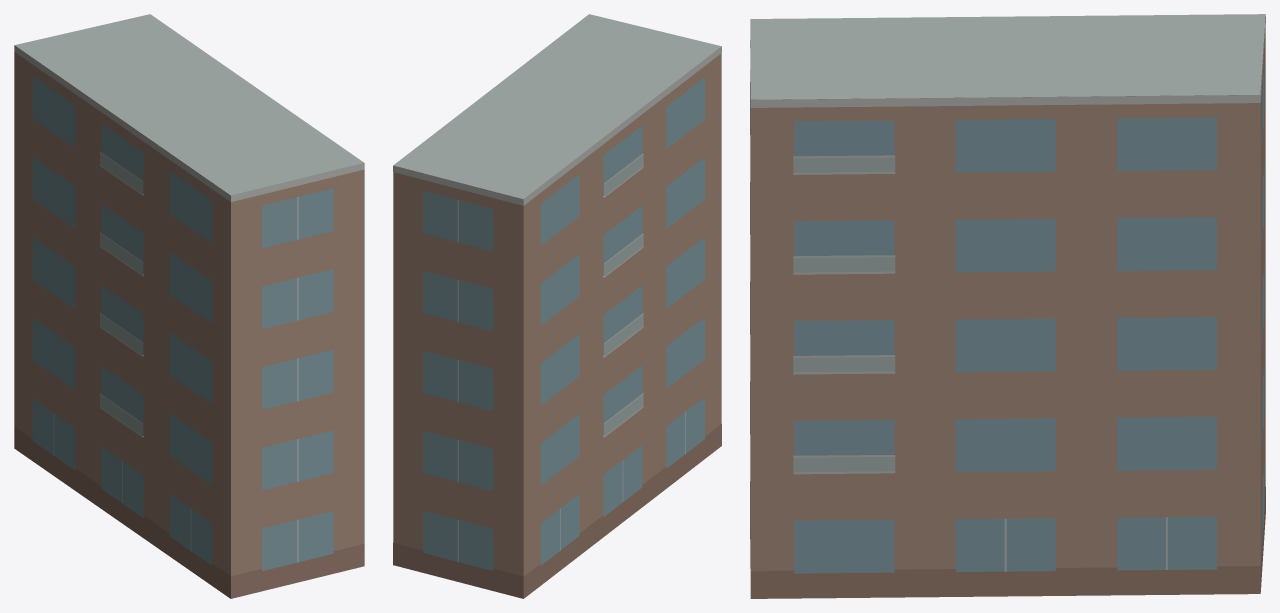
File: survey-upis-32738844.glb
3 views of the same model, side by side, from view 1: azimuth 30°, elevation 25°; view 2: azimuth 150°, elevation 25°; view 3: azimuth 270°, elevation 25° (orthographic). The views are drawn at different scales.
Parts seen in each view (by area): view 1: survey-upis-32738844.tmp; view 2: survey-upis-32738844.tmp; view 3: survey-upis-32738844.tmp.
Part boxes in pixels (x1,y1,x2,y2): survey-upis-32738844.tmp: (14, 14, 364, 598); survey-upis-32738844.tmp: (393, 14, 721, 598); survey-upis-32738844.tmp: (750, 14, 1265, 598).
Size of the model in its own units: 5.47 by 14.8 by 13.86.
